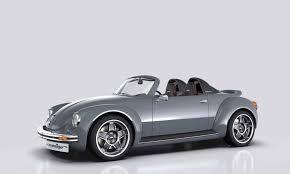volkswagen: (35, 75, 259, 164), (47, 120, 54, 128)
